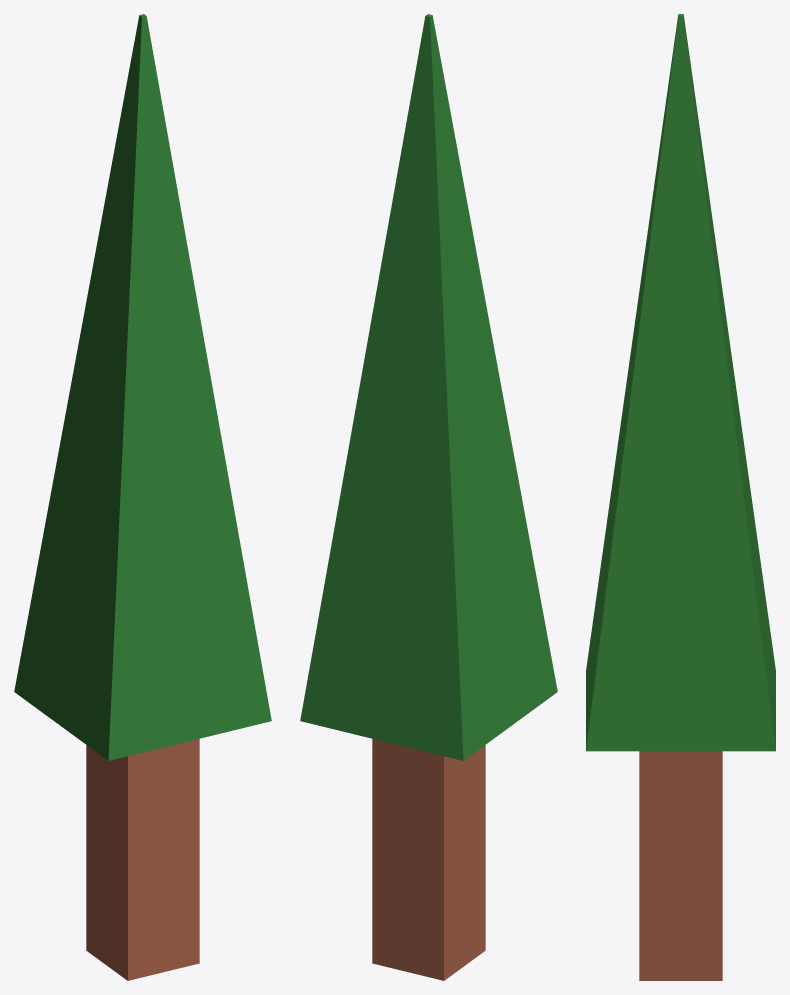
File: Res01_Tree2.fbx
The picture shows the model from 3 angles, left to right: view 1: azimuth 30°, elevation 25°; view 2: azimuth 150°, elevation 25°; view 3: azimuth 270°, elevation 25°; orthographic projection.
Parts seen in each view (by area): view 1: Res01_Tree2; view 2: Res01_Tree2; view 3: Res01_Tree2.
Part boxes in pixels (x1=…): Res01_Tree2: x1=14, y1=14, x2=271, y2=980; Res01_Tree2: x1=300, y1=14, x2=557, y2=980; Res01_Tree2: x1=586, y1=14, x2=775, y2=980.
Size of the model in its own units: 52.5 by 289 by 52.5.
